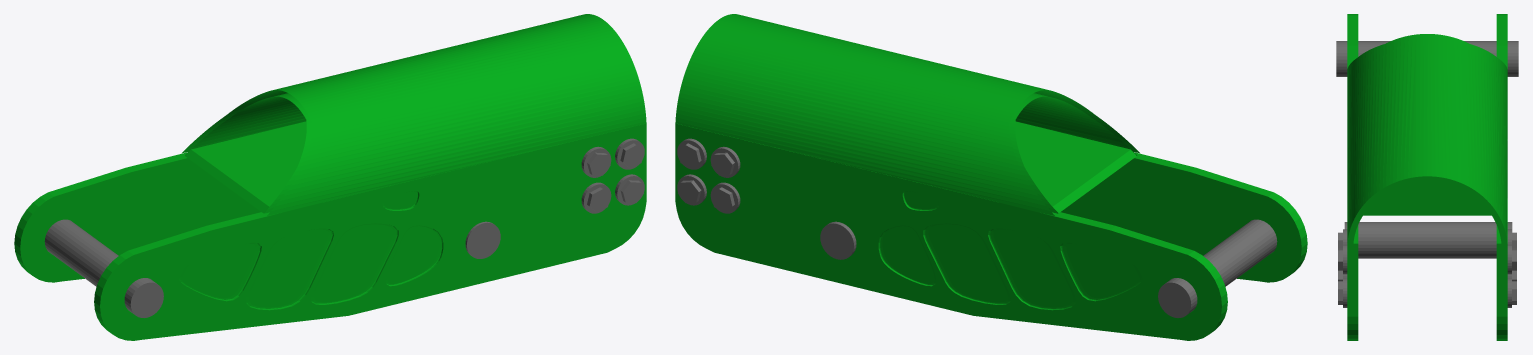
File: Arm.dae
3 views of the same model, side by side, from view 1: azimuth 30°, elevation 25°; view 2: azimuth 150°, elevation 25°; view 3: azimuth 270°, elevation 25° (orthographic). The views are drawn at different scales.
Parts seen in each view (by area): view 1: Slave_Arm_Body, Sheetmetal_Case, Reinforcement, Arm_Base_Bolt1, Bolts, B_Cut_Bolt1; view 2: Slave_Arm_Body, Sheetmetal_Case, Reinforcement, Arm_Base_Bolt1, Bolts, B_Cut_Bolt1; view 3: Sheetmetal_Case, B_Cut_Bolt1, Slave_Arm_Body, Sheetmetal_Case_001, Bolts, Arm_Base_Bolt1.
Part boxes in pixels (x1,y1,x2,y2): Slave_Arm_Body: (14, 123, 646, 340); Sheetmetal_Case: (182, 14, 646, 215); Reinforcement: (185, 121, 306, 213); Arm_Base_Bolt1: (44, 219, 163, 317); Bolts: (581, 138, 644, 213); B_Cut_Bolt1: (465, 221, 500, 258); Slave_Arm_Body: (675, 123, 1307, 340); Sheetmetal_Case: (675, 14, 1139, 215); Reinforcement: (1015, 121, 1136, 213); Arm_Base_Bolt1: (1158, 219, 1277, 317); Bolts: (677, 138, 740, 213); B_Cut_Bolt1: (820, 221, 856, 259); Sheetmetal_Case: (1347, 34, 1507, 243); B_Cut_Bolt1: (1344, 222, 1512, 258); Slave_Arm_Body: (1347, 14, 1507, 340); Sheetmetal_Case_001: (1363, 181, 1491, 215); Bolts: (1338, 229, 1516, 307); Arm_Base_Bolt1: (1336, 41, 1518, 76).
Size of the model in its own units: 0.423 by 0.1306 by 0.1418.
